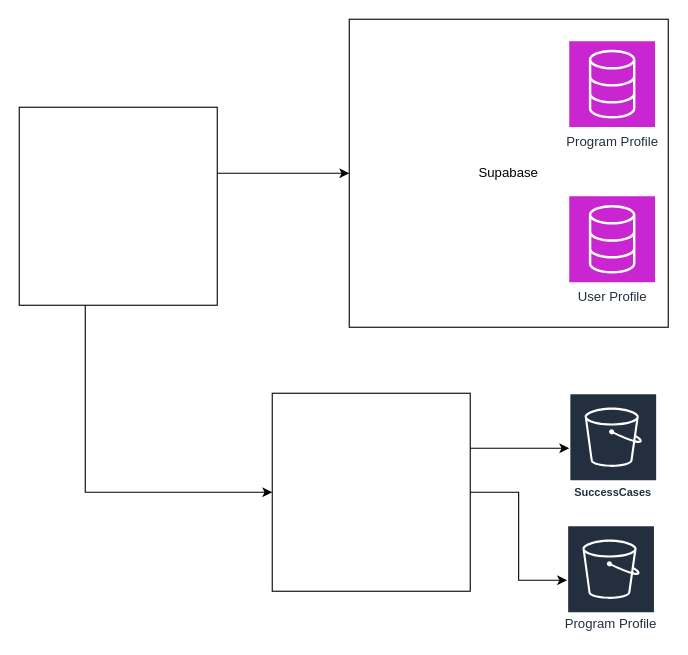
This 688x655 diagram has some shape labels left out. Here are the shapes that lost their labels. From the top down, the centre of each, then its label:
(117,205): Frontend
(370,491): AI
